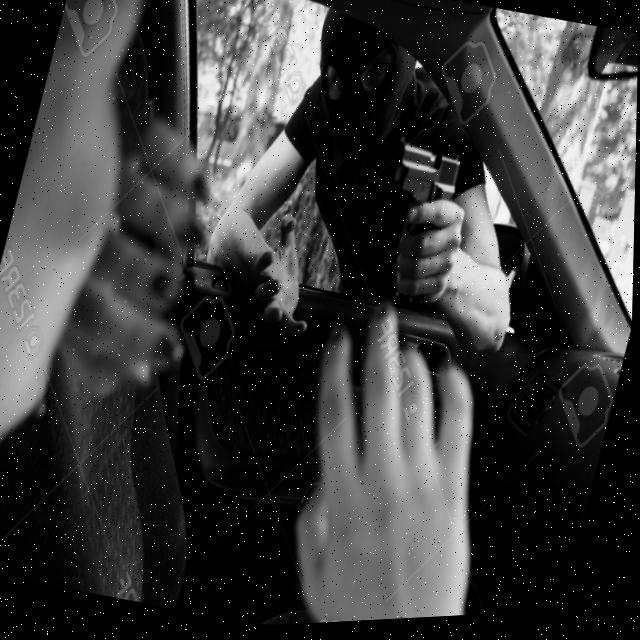pistol: (371, 135, 466, 249)
